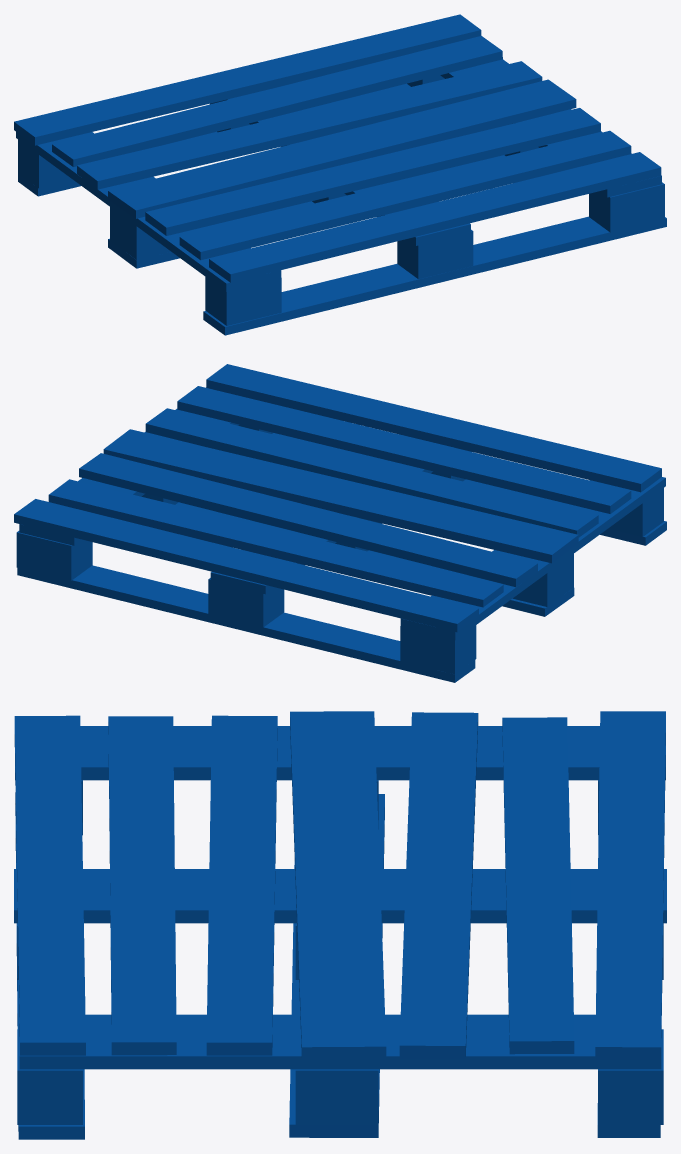
Rendered from SM_palette.fbx.
3 views of the same model, one above another, from view 1: azimuth 30°, elevation 25°; view 2: azimuth 150°, elevation 25°; view 3: azimuth 270°, elevation 25° (orthographic). The views are drawn at different scales.
Parts seen in each view (by area): view 1: SM_palette; view 2: SM_palette; view 3: SM_palette.
Part boxes in pixels (<box>): SM_palette: <box>14,14,666,335</box>; SM_palette: <box>14,364,666,682</box>; SM_palette: <box>14,711,666,1139</box>.
Size of the model in its own units: 1.22 by 0.1595 by 1.
